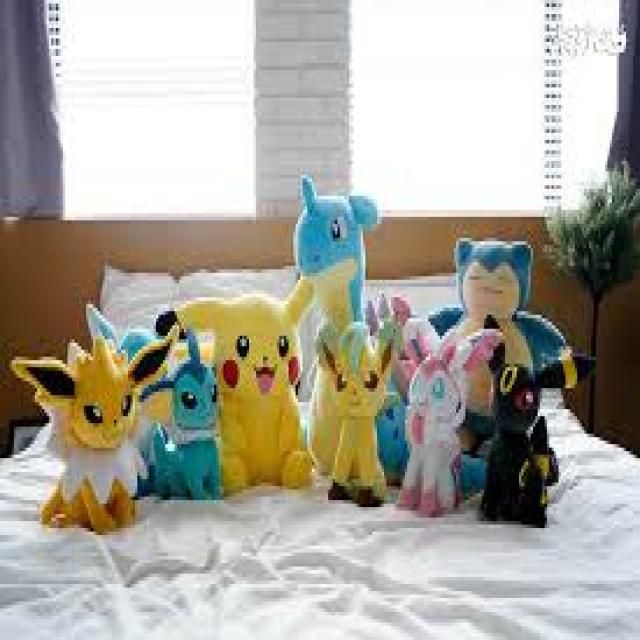Jolteon: (40, 337, 149, 531)
Pikachu: (217, 294, 306, 491)
Snorlax: (447, 237, 540, 433)
Vaporeon: (149, 356, 222, 498)
